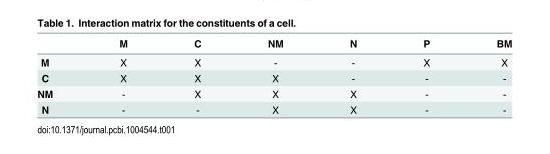table: (36, 36, 511, 114)
table column: (233, 36, 315, 114), (85, 36, 160, 114), (315, 36, 389, 114), (160, 36, 233, 114), (389, 36, 462, 114), (36, 36, 85, 114), (462, 36, 511, 114)
table column header: (36, 36, 511, 52)
table row: (36, 52, 511, 69), (36, 36, 511, 52), (36, 69, 511, 85), (36, 85, 511, 101), (36, 101, 511, 114)
